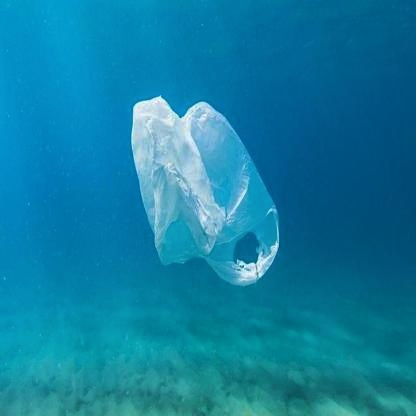pbag: (124, 86, 285, 291)
